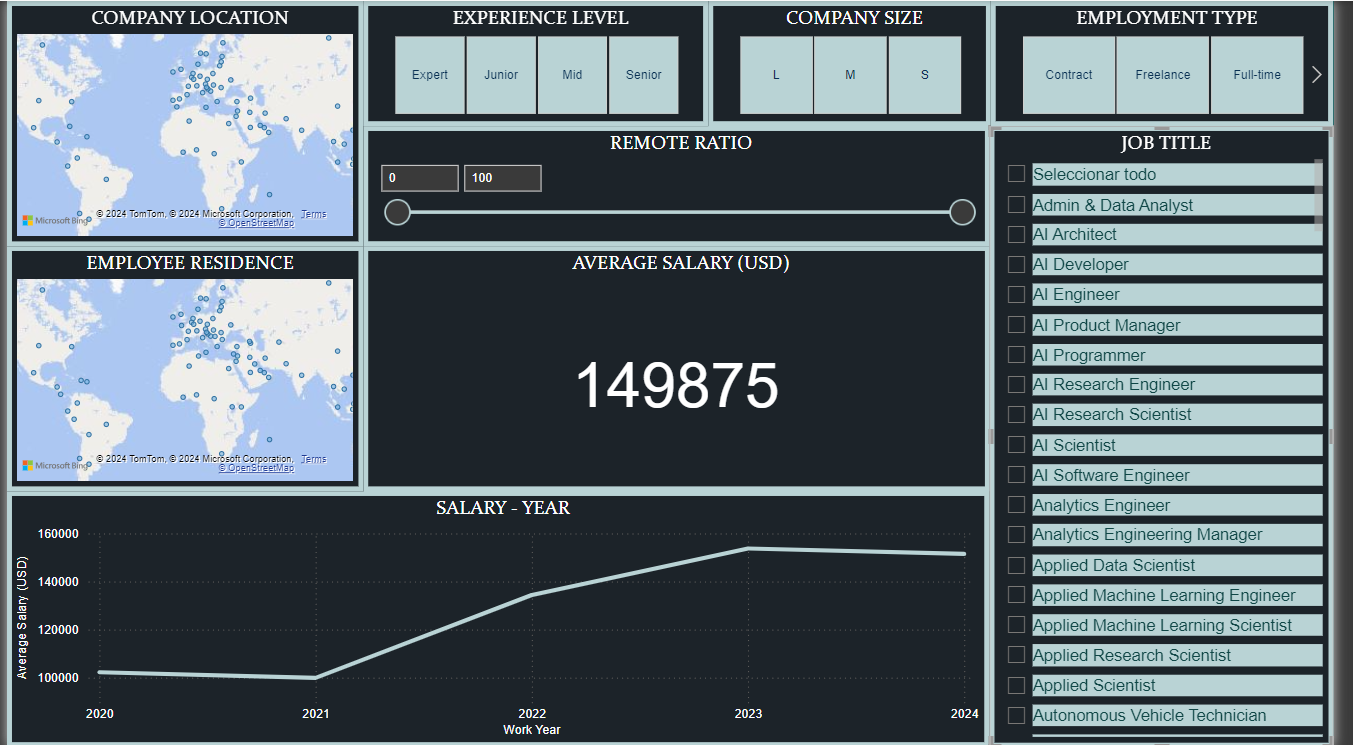

The page's visual inventory and layout, read from the dashboard file:
{"tool":"powerbi","page":{"name":"Página 1","canvas":[1280,720],"ordinal":0},"visuals":[{"type":"card","title":"AVERAGE SALARY (USD)","fields":{"Values":["Avg(DataScience_salaries_2024.salary_in_usd)"]},"box":[343.8,236.5,604.4,236.5],"z":0},{"type":"slicer","title":"COMPANY SIZE","fields":{"Values":["DataScience_salaries_2024.company_size"]},"box":[676.8,0,272.7,120.6],"z":1000},{"type":"slicer","title":"REMOTE RATIO","fields":{"Values":["DataScience_salaries_2024.remote_ratio"]},"box":[343.8,120.6,604.4,115.8],"z":2000},{"type":"lineChart","title":"SALARY - YEAR","fields":{"Category":["DataScience_salaries_2024.work_year"],"Y":["Avg(DataScience_salaries_2024.salary_in_usd)"]},"box":[0,472.9,948.3,247.3],"z":3000},{"type":"map","title":"EMPLOYEE RESIDENCE","fields":{"Category":["DataScience_salaries_2024.employee_residence"]},"box":[0,236.5,343.8,236.5],"z":4000},{"type":"map","title":"COMPANY LOCATION","fields":{"Category":["DataScience_salaries_2024.company_location"]},"box":[0,0,343.8,236.5],"z":5000},{"type":"slicer","title":"JOB TITLE","fields":{"Values":["DataScience_salaries_2024.job_title"]},"box":[948.3,120.6,331.8,599.6],"z":6000},{"type":"slicer","title":"EMPLOYMENT TYPE","fields":{"Values":["DataScience_salaries_2024.employment"]},"box":[949.5,0,330.6,120.6],"z":7000},{"type":"slicer","title":"EXPERIENCE LEVEL","fields":{"Values":["DataScience_salaries_2024.Experience"]},"box":[343.8,0,333,120.6],"z":8000}]}

Visuals, with their boxes in screenshot pixels (x1, y1, x2, y2), scaled from the page's 1280x720 canvas onto the 1353x745 screenshot:
"AVERAGE SALARY (USD)" card: <bbox>363, 245, 1002, 489</bbox>
"COMPANY SIZE" slicer: <bbox>715, 0, 1004, 125</bbox>
"REMOTE RATIO" slicer: <bbox>363, 125, 1002, 245</bbox>
"SALARY - YEAR" lineChart: <bbox>0, 489, 1002, 744</bbox>
"EMPLOYEE RESIDENCE" map: <bbox>0, 245, 363, 489</bbox>
"COMPANY LOCATION" map: <bbox>0, 0, 363, 245</bbox>
"JOB TITLE" slicer: <bbox>1002, 125, 1352, 744</bbox>
"EMPLOYMENT TYPE" slicer: <bbox>1004, 0, 1352, 125</bbox>
"EXPERIENCE LEVEL" slicer: <bbox>363, 0, 715, 125</bbox>
